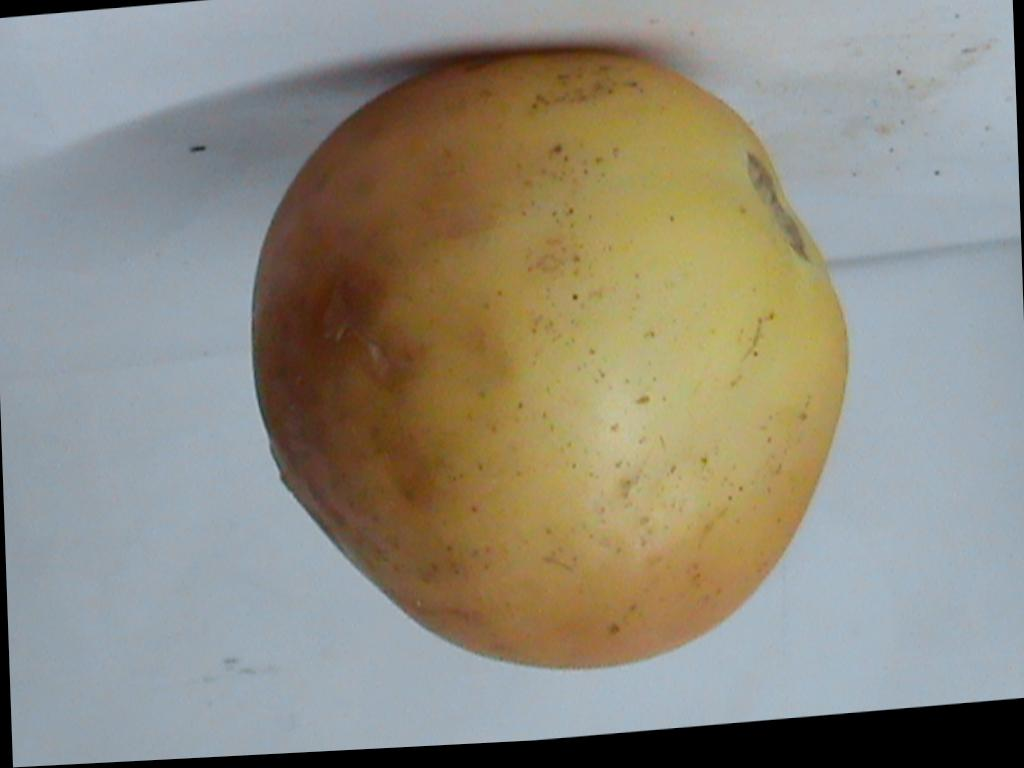bruise_discoloration: (384, 56, 846, 576)
tomato: (254, 55, 846, 668)
